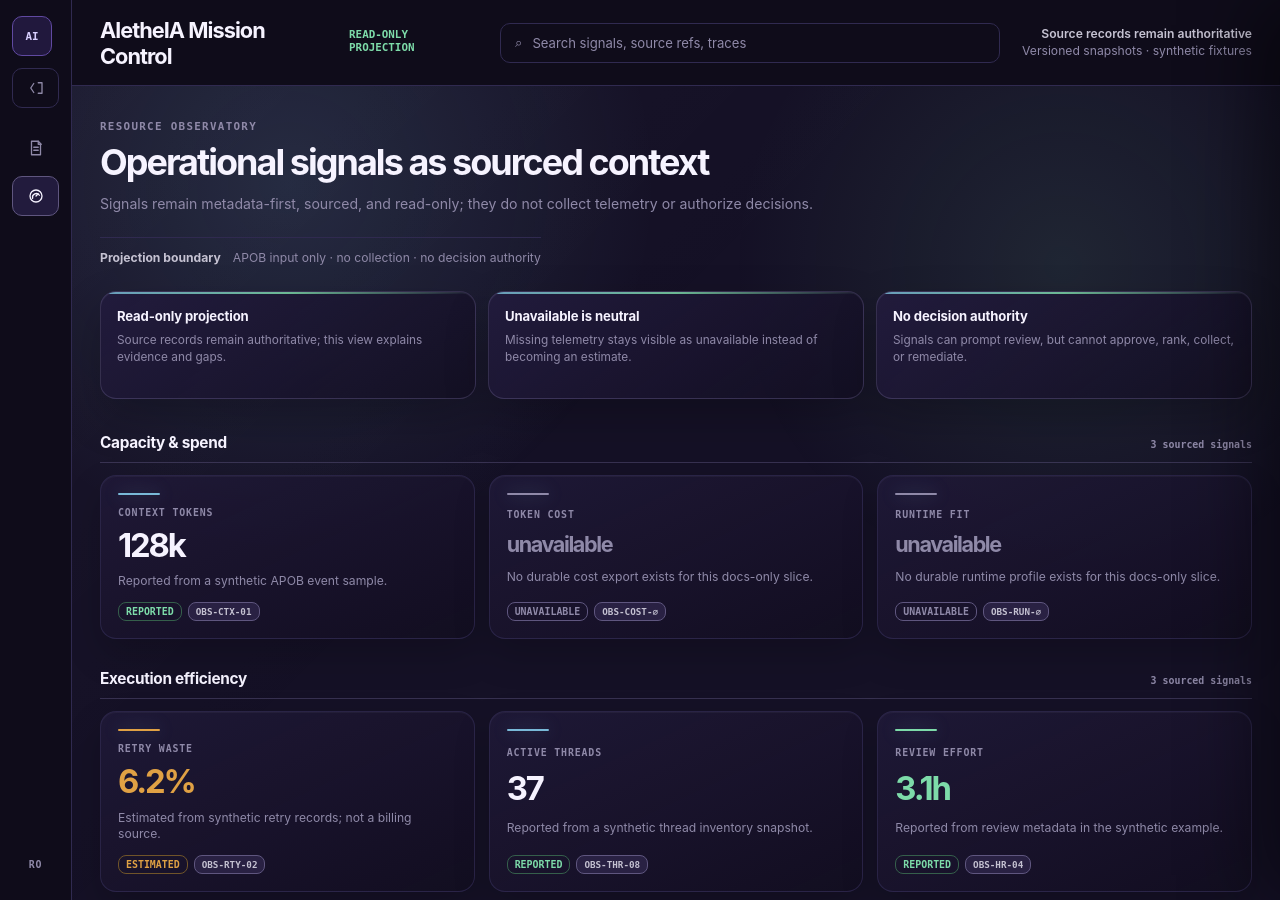
Scenario: Resource Observatory › keeps estimated retry context visibly distinct from reported sources
Click the button with aria-label "Inspect Retry waste provenance" at (155, 749), box [100, 711, 475, 892]
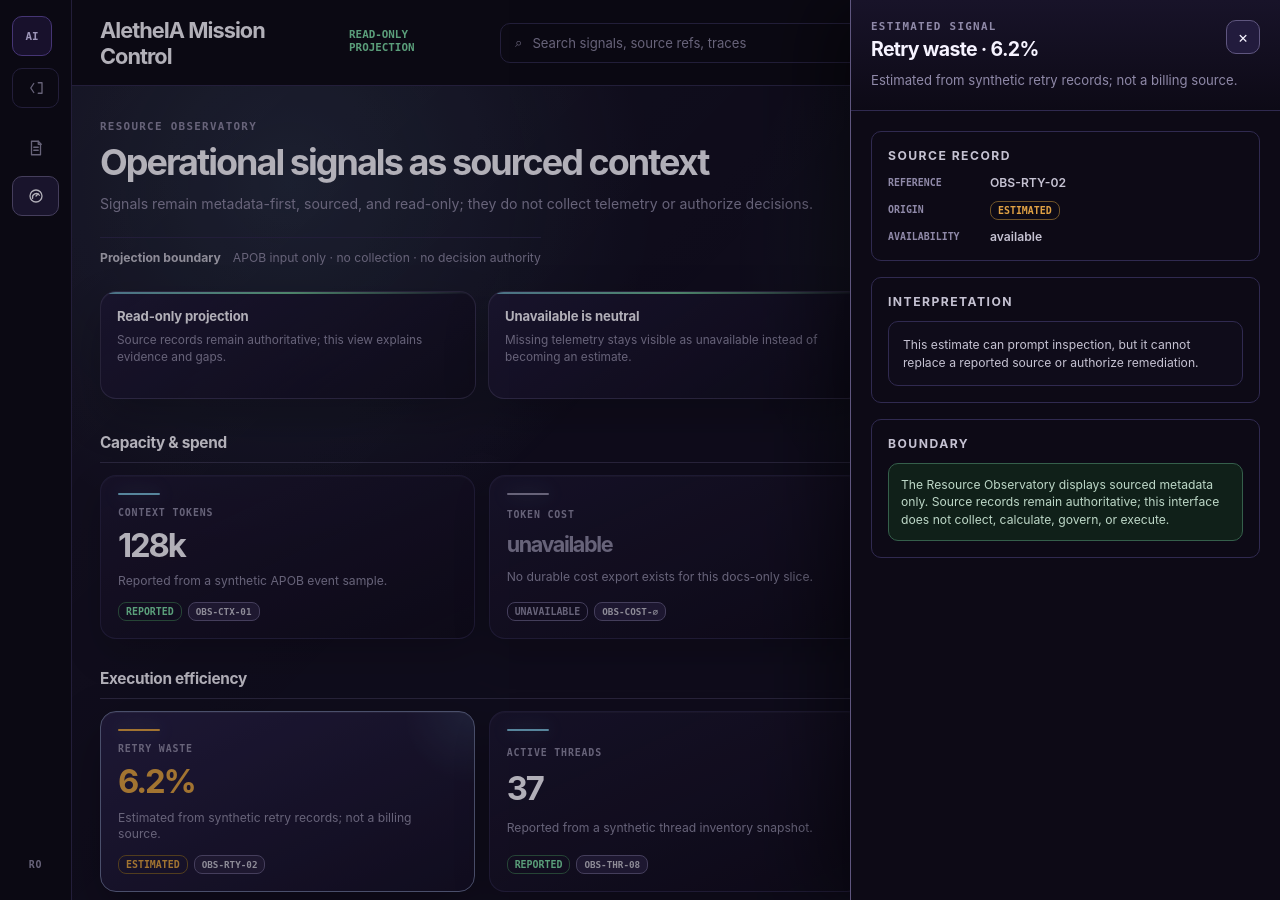
Expected: the text "estimated" is shown, [990, 201, 1060, 220]
Expected: the text "cannot replace a reported source or authorize remediation" is shown, [903, 337, 1199, 370]
